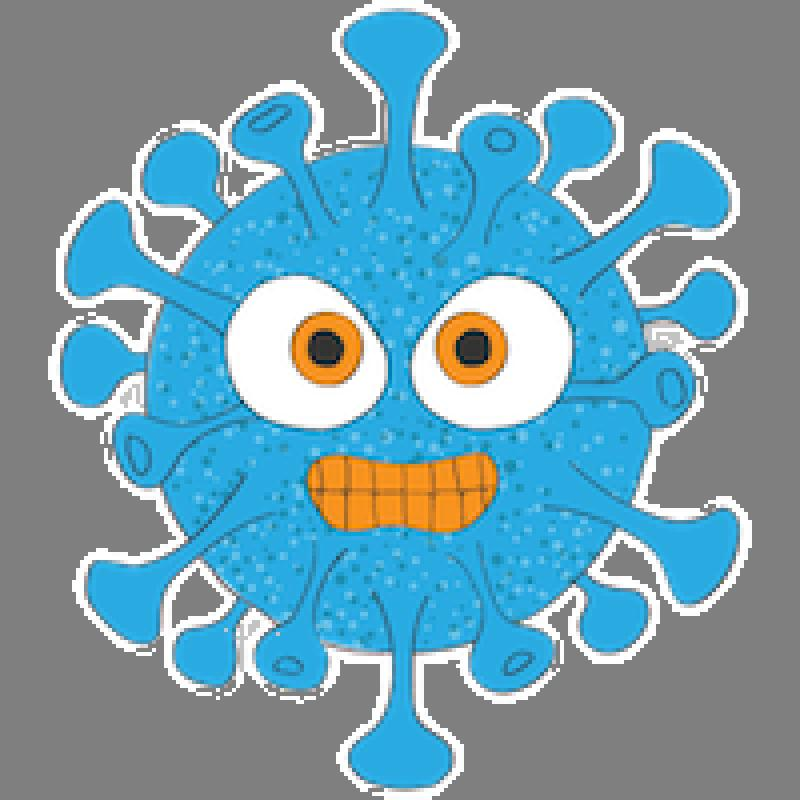corona1: (0, 0, 796, 796)
